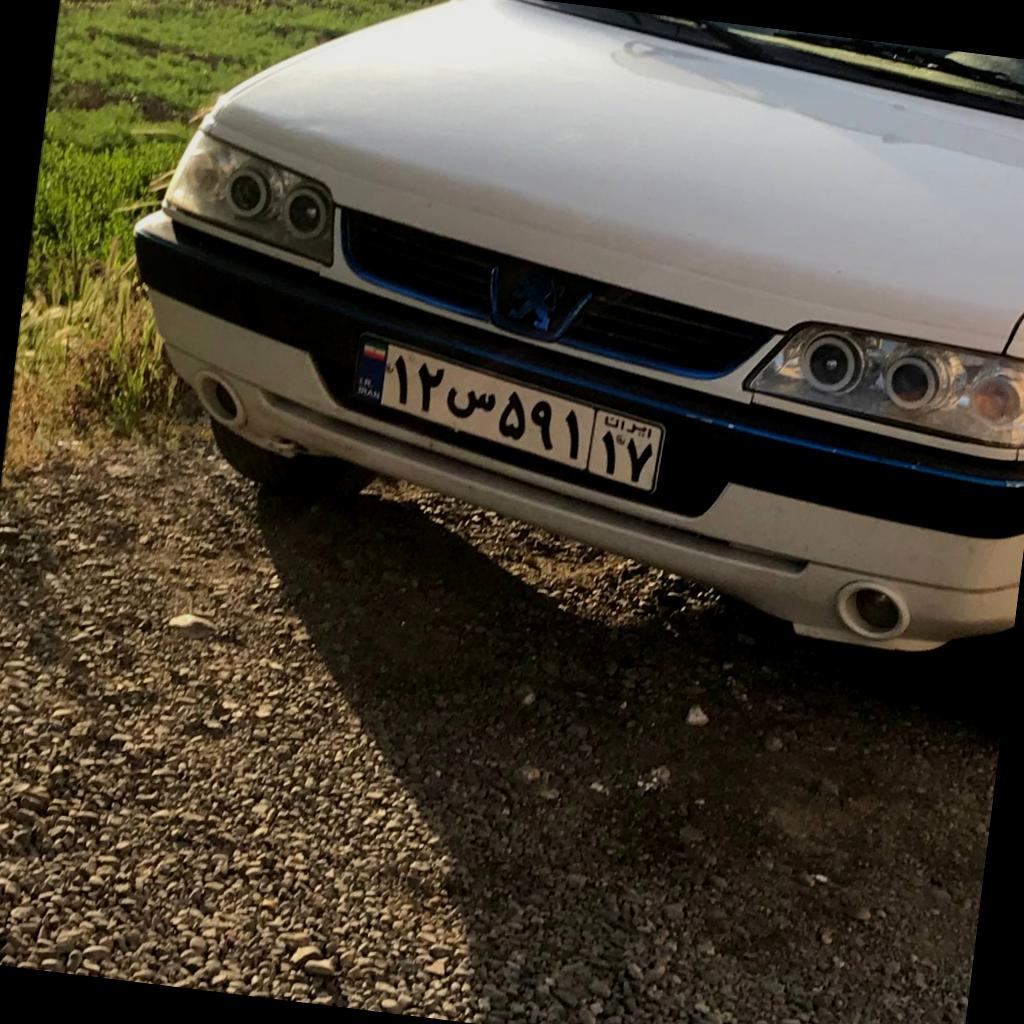Plates: (355, 335, 661, 490)
